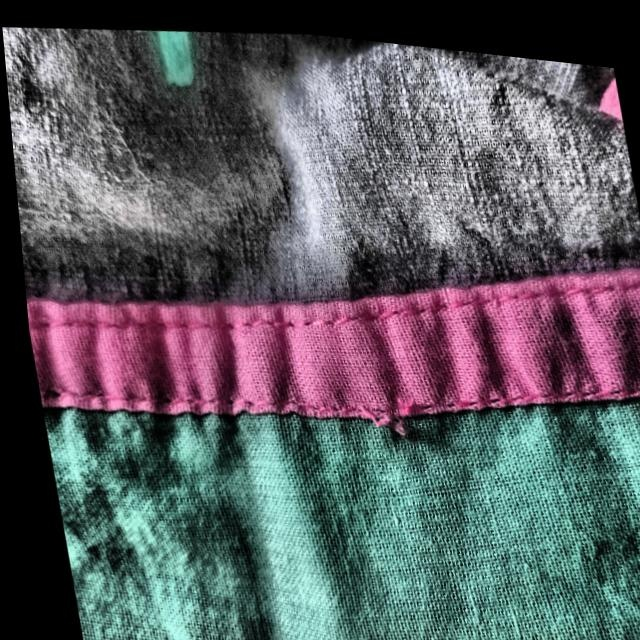Stitch: (307, 348, 468, 491)
